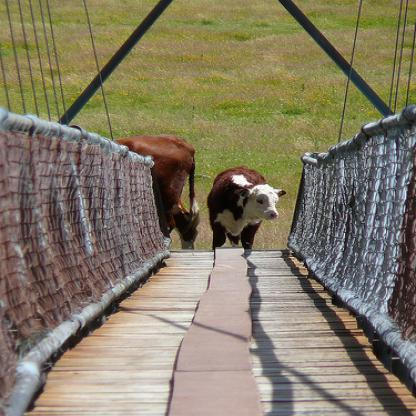cow: (111, 132, 202, 250), (206, 165, 288, 249)
